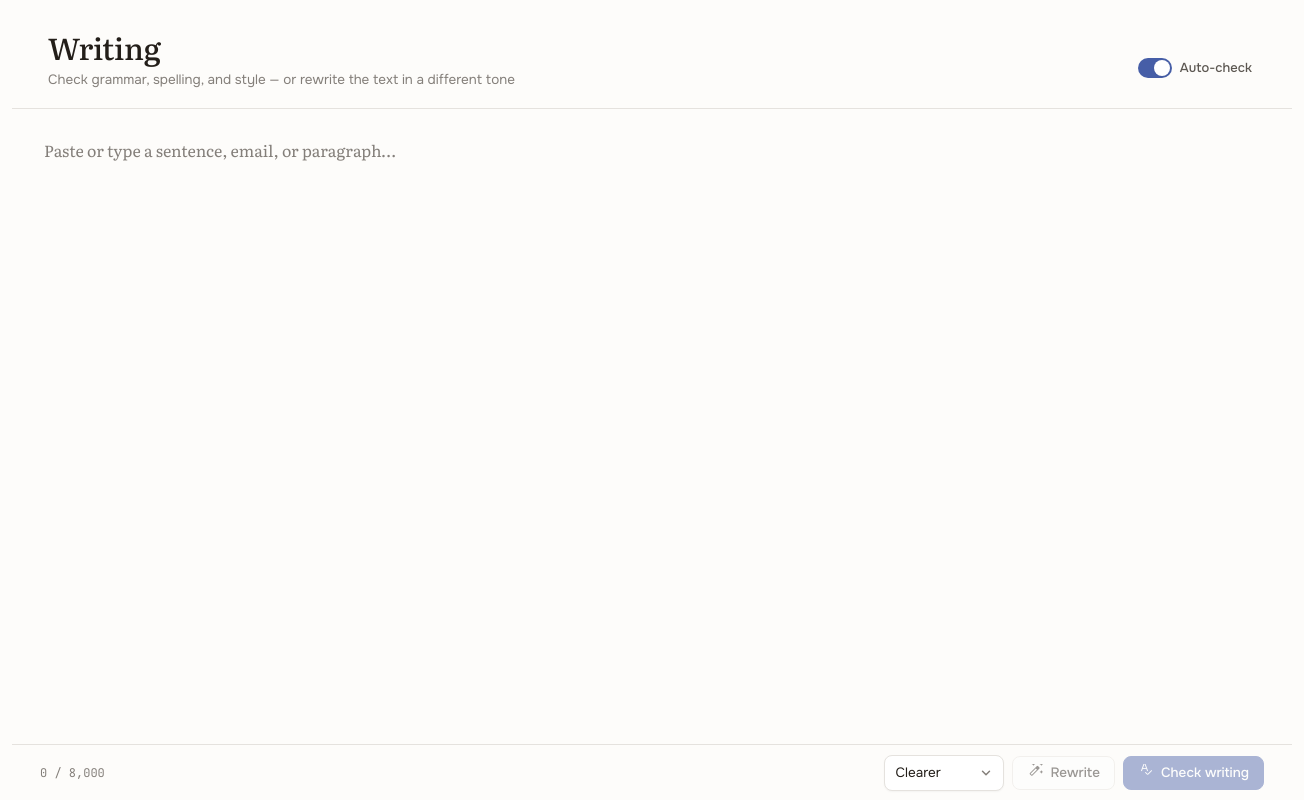
Test: WritingPage › auto-check › runs check_writing after the debounce when auto-check is enabled
The width and height of the screenshot is (1304, 800).
Step 1. Type "bless god" into the text box named "Text to check" → [652, 426], box [12,109,1292,744]
Wait 2000 ms
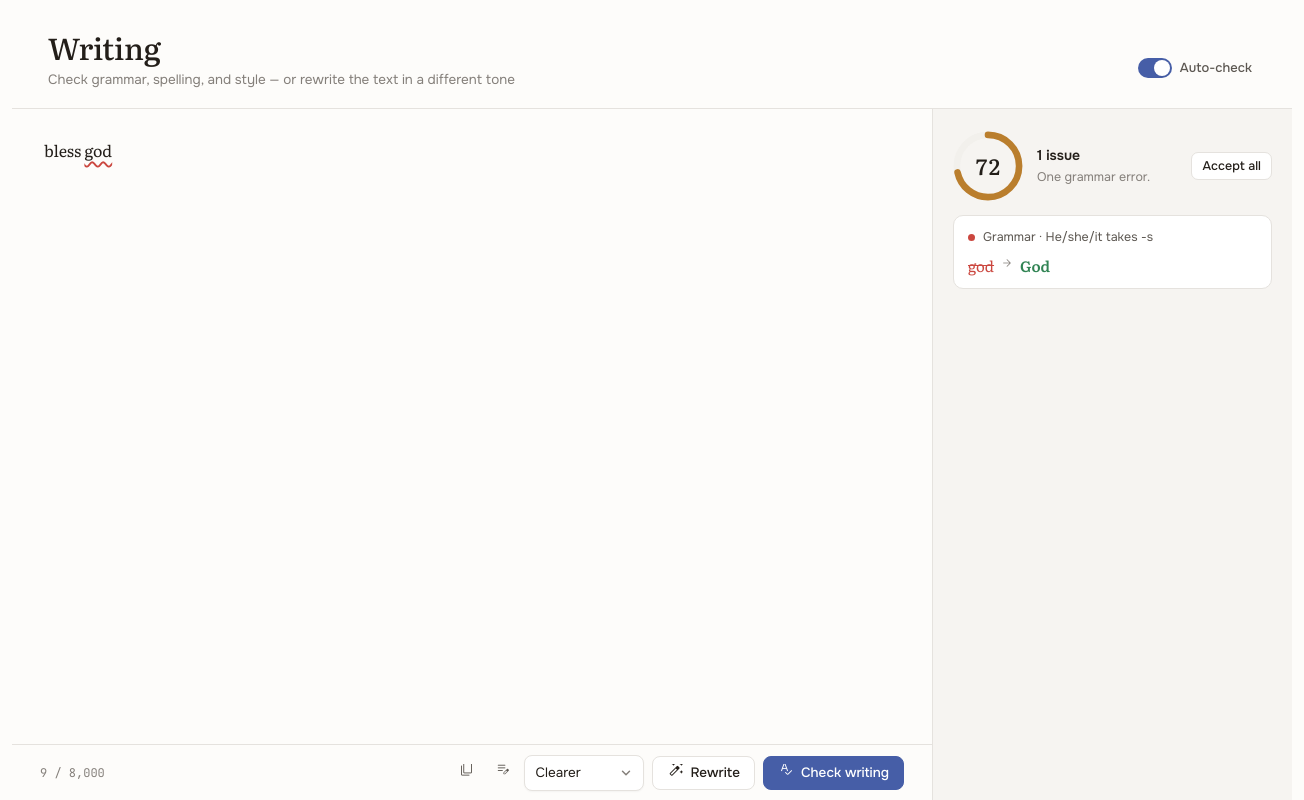
Check: the text "One grammar error." is shown, box [1037,169,1150,185]
Check: the button with class "writing-mark" reads "god", box [84,137,112,164]
